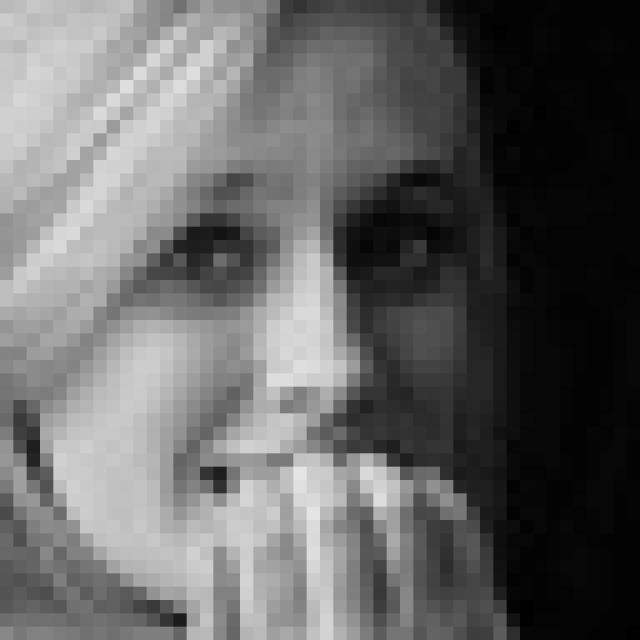fear: (128, 150, 478, 546)
